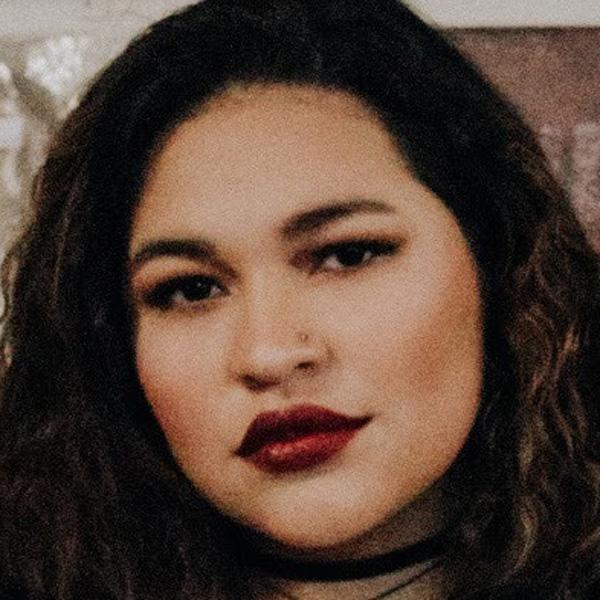Eyes: (288, 224, 414, 292), (139, 263, 234, 323)
